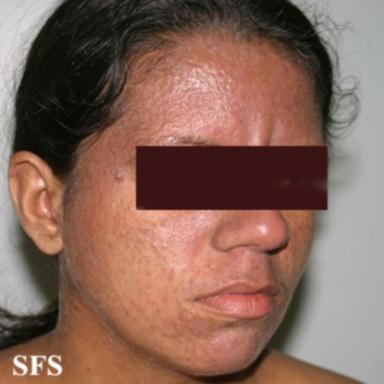Darier_s-Disease: (69, 38, 307, 253), (194, 211, 313, 292), (161, 306, 271, 374)
